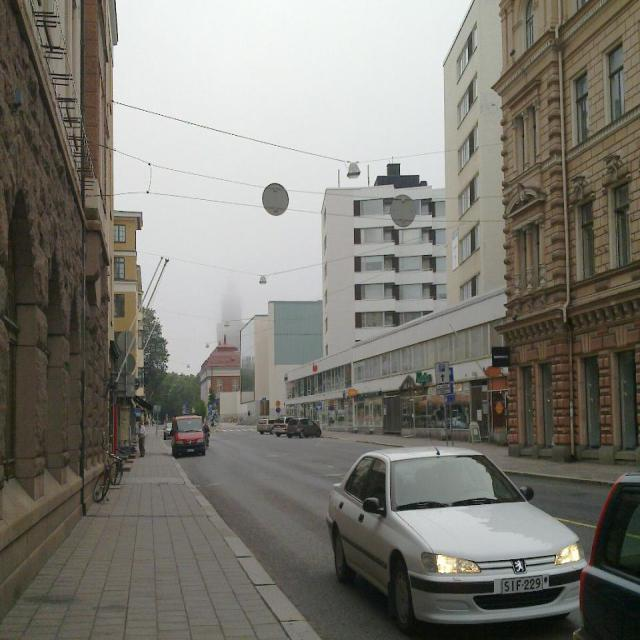car: (169, 412, 204, 455), (287, 417, 323, 436)
